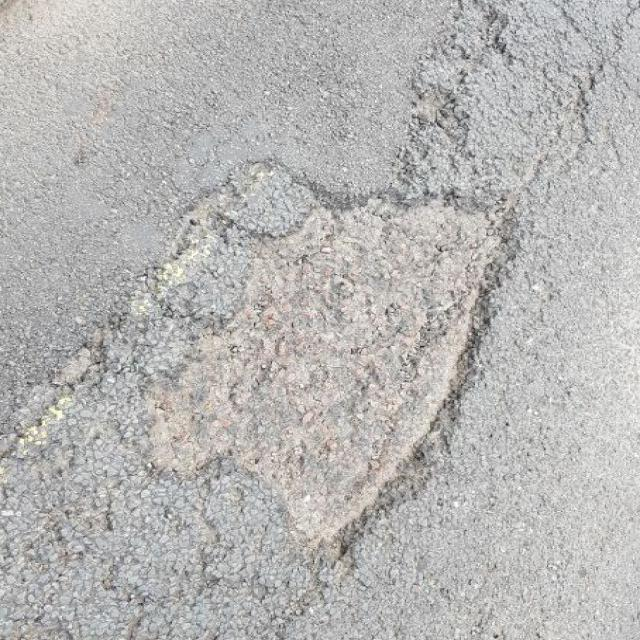Pothole: (76, 153, 537, 562)
